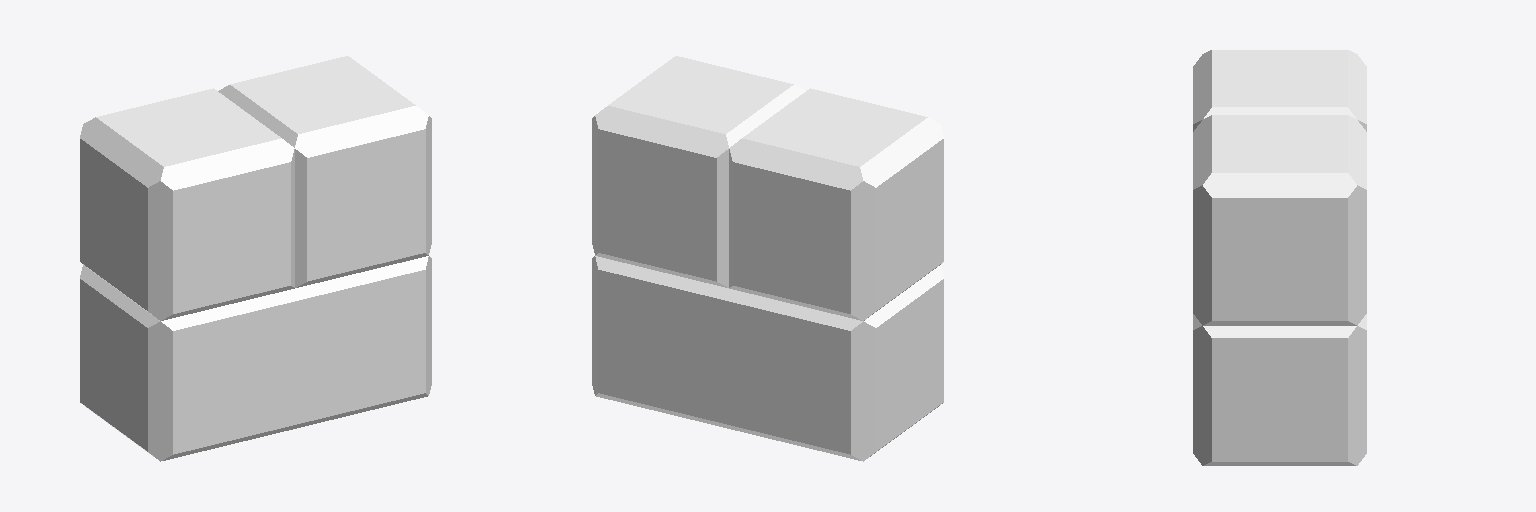
Rendered from Wall1_Half_H0.3.obj.
3 renders of one model, left to right at view 1: azimuth 30°, elevation 25°; view 2: azimuth 150°, elevation 25°; view 3: azimuth 270°, elevation 25°, orthographic.
Parts seen in each view (by area): view 1: Box003; view 2: Box003; view 3: Box003.
Boxes of the visible parts, box(x1,y1,x2,y2) form: Box003: box(80, 56, 431, 461); Box003: box(592, 56, 943, 461); Box003: box(1193, 50, 1366, 465).
Size of the model in its own units: 1.06 by 1.03 by 0.56.